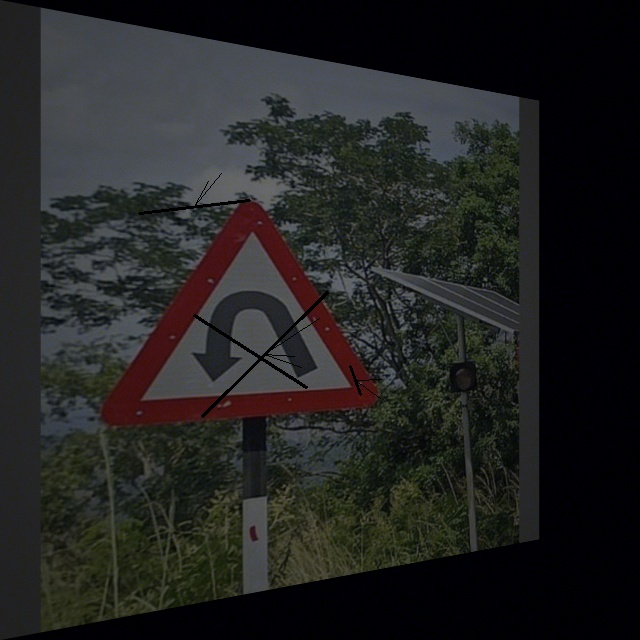Left_Hair_Pin_Bend: (96, 189, 382, 425)
